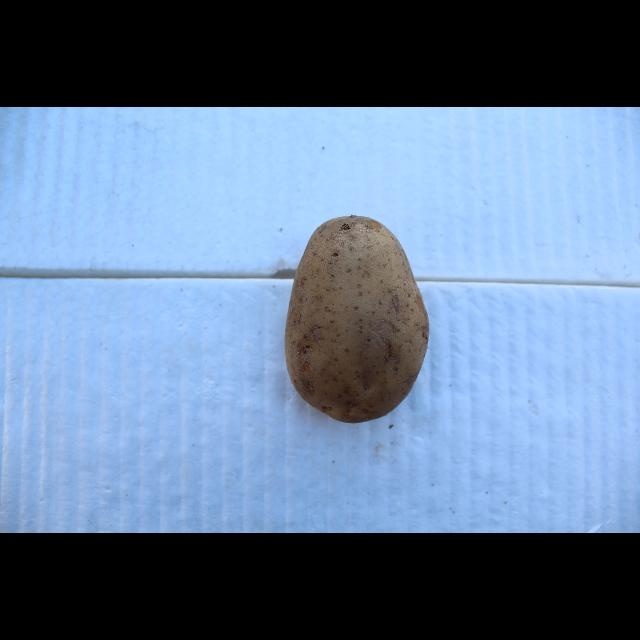Diseased-fungal potato: (283, 215, 432, 428)
